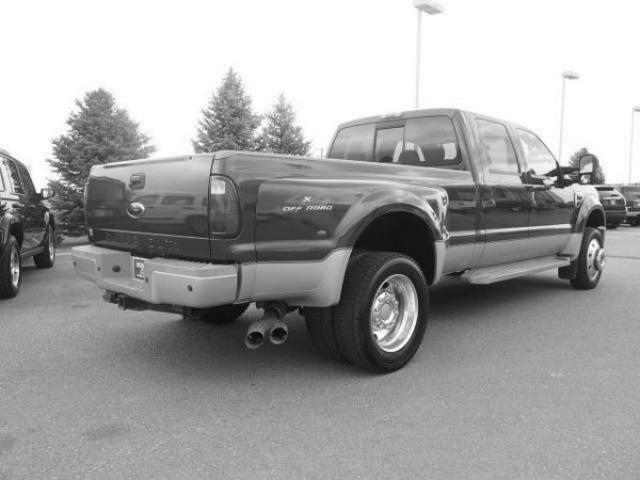car: (73, 109, 606, 374)
